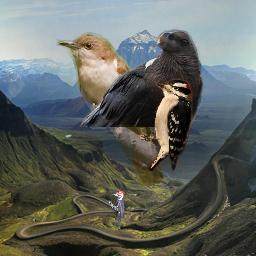Crow: (78, 28, 205, 127)
Cuckoo: (56, 32, 164, 188)
Woodpecker: (138, 77, 193, 171), (106, 191, 125, 229)
